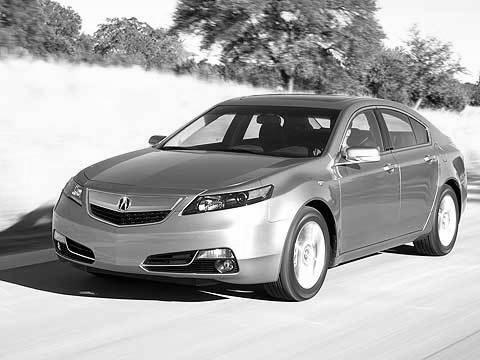car: (52, 94, 470, 304)
